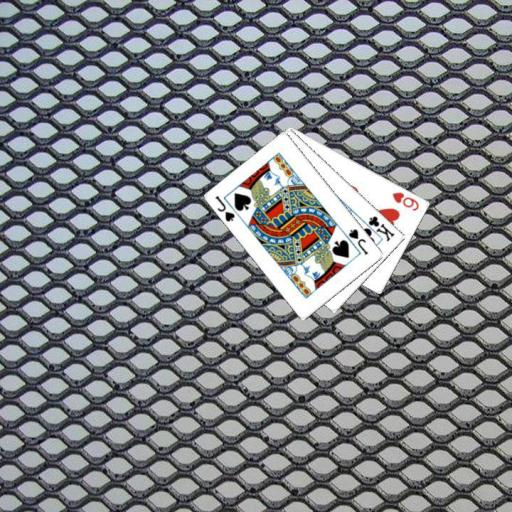6H: (389, 189, 421, 213)
JS: (212, 193, 237, 223), (346, 225, 370, 256)
KC: (359, 213, 396, 243)
